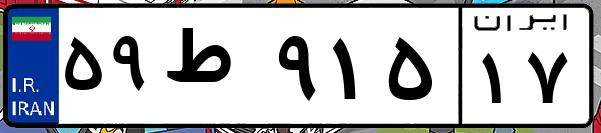1: (330, 28, 385, 110), (475, 38, 525, 113)
5: (385, 28, 445, 110), (57, 26, 110, 100)
7: (525, 38, 570, 115)
9: (270, 28, 330, 110), (110, 28, 158, 98)
ط: (158, 20, 270, 120)
